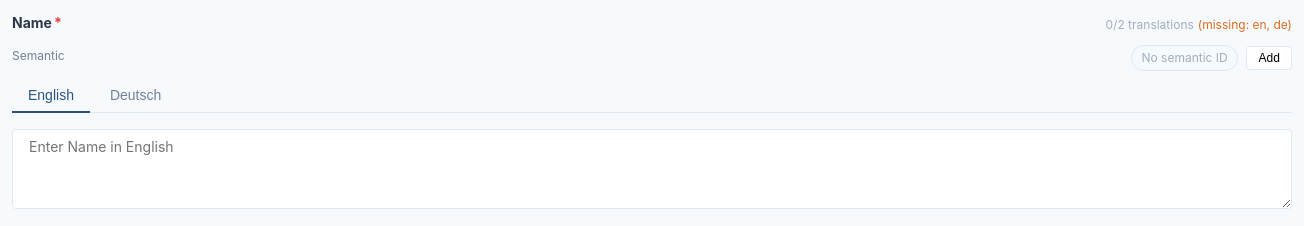
it: MultiLangField › updates translation gap indicators when required languages are filled
This screenshot has width=1304, height=226.
expect the text "(missing: en, de)" is shown: met, box [1198,16,1292,32]
Type "Motor" into the text box labelled "Name in English". click: (652, 169)
box: [12,129,1292,209]
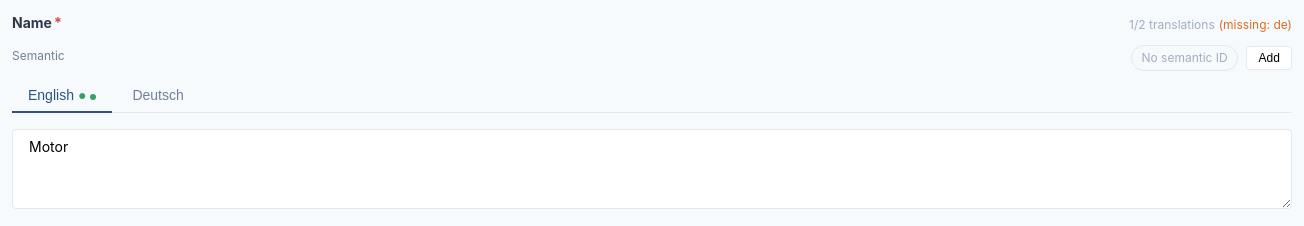
expect the text "(missing: de)" is shown: met, box [1219,16,1292,32]
expect the text "1/2 translations" is shown: met, box [1129,16,1292,34]
